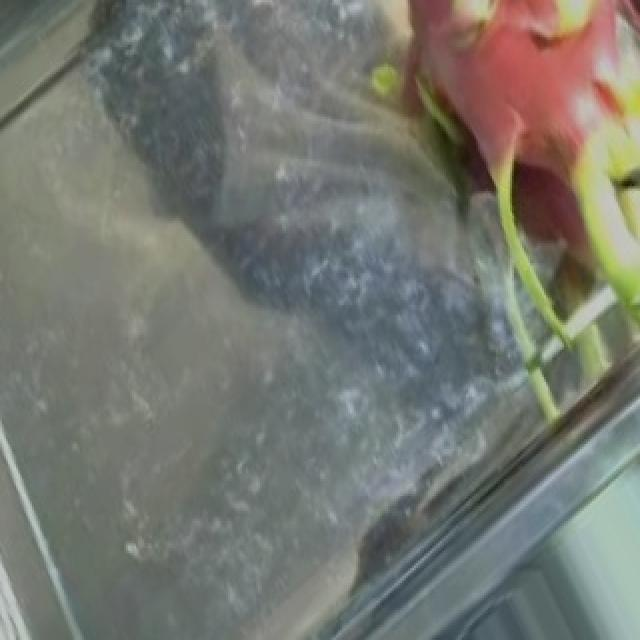fruit: (294, 0, 640, 417)
